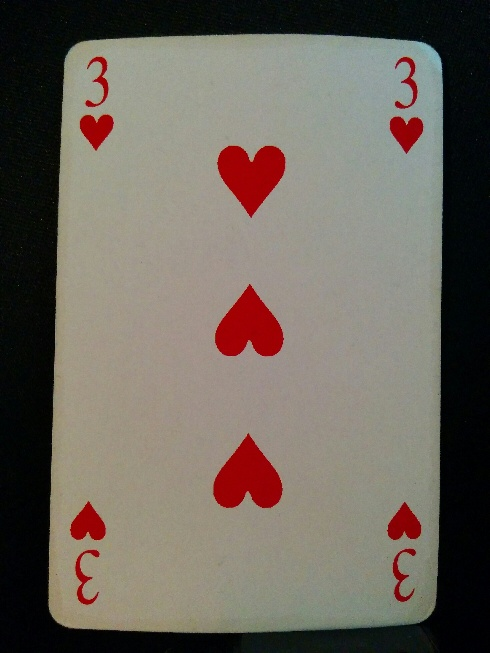H3: (67, 495, 113, 614), (378, 492, 426, 606), (78, 52, 121, 155), (387, 51, 424, 158)
